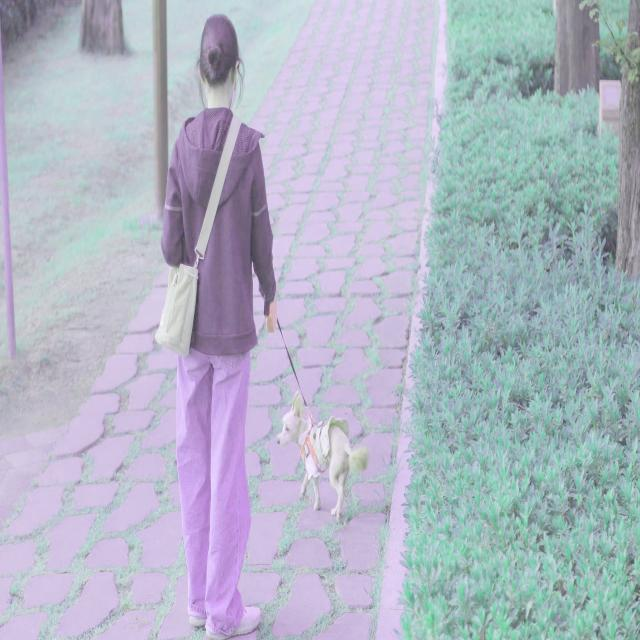Leashed_Dog: (226, 301, 370, 521)
